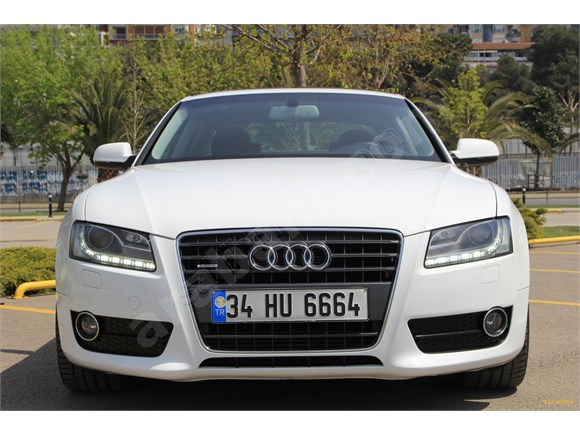audi: (242, 235, 339, 276)
